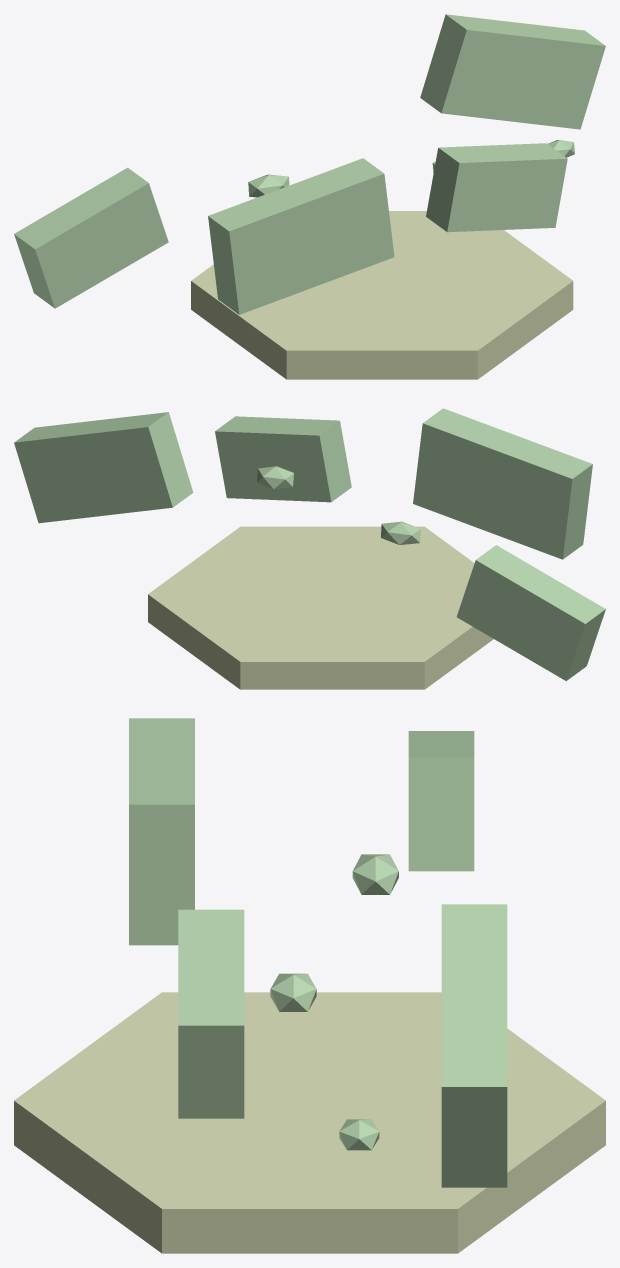
File: COASTAL_GROUND_COVER_001_v002_LOD_GAMEPLAY.glb
3 views of the same model, one above another, from view 1: azimuth 30°, elevation 25°; view 2: azimuth 150°, elevation 25°; view 3: azimuth 270°, elevation 25° (orthographic). The views are drawn at different scales.
Parts seen in each view (by area): view 1: COASTAL_GROUND_COVER_001_LOD_GAMEPLAY_GROUND_SOCKET, COASTAL_GROUND_COVER_001_LOD_GAMEPLAY_PATCH_002, COASTAL_GROUND_COVER_001_LOD_GAMEPLAY_PATCH_005, COASTAL_GROUND_COVER_001_LOD_GAMEPLAY_PATCH_001, COASTAL_GROUND_COVER_001_LOD_GAMEPLAY_PATCH_004, COASTAL_GROUND_COVER_001_LOD_GAMEPLAY_CLUSTER_001; view 2: COASTAL_GROUND_COVER_001_LOD_GAMEPLAY_GROUND_SOCKET, COASTAL_GROUND_COVER_001_LOD_GAMEPLAY_PATCH_002, COASTAL_GROUND_COVER_001_LOD_GAMEPLAY_PATCH_005, COASTAL_GROUND_COVER_001_LOD_GAMEPLAY_PATCH_001, COASTAL_GROUND_COVER_001_LOD_GAMEPLAY_PATCH_004, COASTAL_GROUND_COVER_001_LOD_GAMEPLAY_CLUSTER_001, COASTAL_GROUND_COVER_001_LOD_GAMEPLAY_CLUSTER_002; view 3: COASTAL_GROUND_COVER_001_LOD_GAMEPLAY_GROUND_SOCKET, COASTAL_GROUND_COVER_001_LOD_GAMEPLAY_PATCH_005, COASTAL_GROUND_COVER_001_LOD_GAMEPLAY_PATCH_002, COASTAL_GROUND_COVER_001_LOD_GAMEPLAY_PATCH_004, COASTAL_GROUND_COVER_001_LOD_GAMEPLAY_PATCH_001, COASTAL_GROUND_COVER_001_LOD_GAMEPLAY_CLUSTER_001, COASTAL_GROUND_COVER_001_LOD_GAMEPLAY_CLUSTER_002, COASTAL_GROUND_COVER_001_LOD_GAMEPLAY_CLUSTER_003.
Part boxes in pixels (box(x1,y1,x2,y2)): COASTAL_GROUND_COVER_001_LOD_GAMEPLAY_GROUND_SOCKET: box(191, 211, 573, 379); COASTAL_GROUND_COVER_001_LOD_GAMEPLAY_PATCH_002: box(208, 158, 394, 314); COASTAL_GROUND_COVER_001_LOD_GAMEPLAY_PATCH_005: box(420, 14, 605, 129); COASTAL_GROUND_COVER_001_LOD_GAMEPLAY_PATCH_001: box(14, 167, 168, 308); COASTAL_GROUND_COVER_001_LOD_GAMEPLAY_PATCH_004: box(426, 143, 567, 232); COASTAL_GROUND_COVER_001_LOD_GAMEPLAY_CLUSTER_001: box(248, 174, 289, 197); COASTAL_GROUND_COVER_001_LOD_GAMEPLAY_GROUND_SOCKET: box(148, 526, 493, 689); COASTAL_GROUND_COVER_001_LOD_GAMEPLAY_PATCH_002: box(413, 408, 592, 559); COASTAL_GROUND_COVER_001_LOD_GAMEPLAY_PATCH_005: box(14, 412, 193, 523); COASTAL_GROUND_COVER_001_LOD_GAMEPLAY_PATCH_001: box(456, 545, 605, 680); COASTAL_GROUND_COVER_001_LOD_GAMEPLAY_PATCH_004: box(215, 416, 351, 502); COASTAL_GROUND_COVER_001_LOD_GAMEPLAY_CLUSTER_001: box(381, 521, 420, 544); COASTAL_GROUND_COVER_001_LOD_GAMEPLAY_CLUSTER_002: box(257, 466, 293, 489); COASTAL_GROUND_COVER_001_LOD_GAMEPLAY_GROUND_SOCKET: box(14, 992, 605, 1253); COASTAL_GROUND_COVER_001_LOD_GAMEPLAY_PATCH_005: box(441, 904, 507, 1187); COASTAL_GROUND_COVER_001_LOD_GAMEPLAY_PATCH_002: box(129, 718, 194, 945); COASTAL_GROUND_COVER_001_LOD_GAMEPLAY_PATCH_004: box(178, 909, 244, 1118); COASTAL_GROUND_COVER_001_LOD_GAMEPLAY_PATCH_001: box(408, 731, 474, 871); COASTAL_GROUND_COVER_001_LOD_GAMEPLAY_CLUSTER_001: box(352, 854, 398, 894); COASTAL_GROUND_COVER_001_LOD_GAMEPLAY_CLUSTER_002: box(270, 973, 316, 1011); COASTAL_GROUND_COVER_001_LOD_GAMEPLAY_CLUSTER_003: box(339, 1119, 379, 1150).
Size of the model in its own units: 1.26 by 0.4625 by 0.72.
